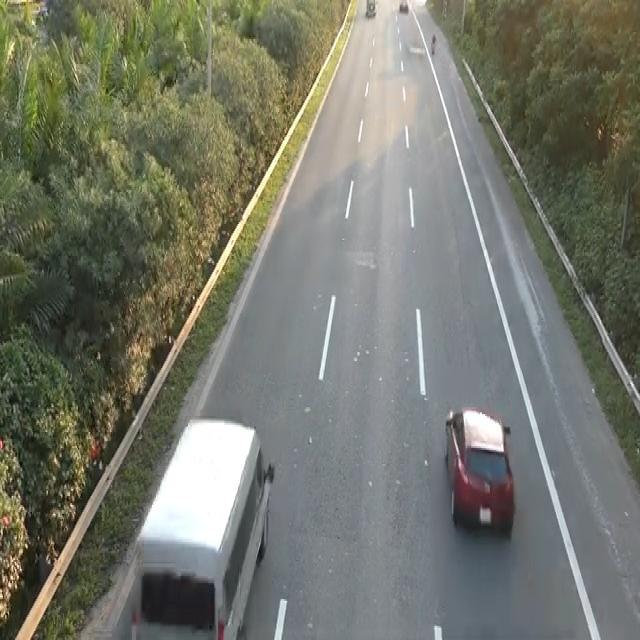bus: (442, 402, 519, 542)
jeep: (113, 410, 275, 634)
minibus: (429, 30, 437, 55)
